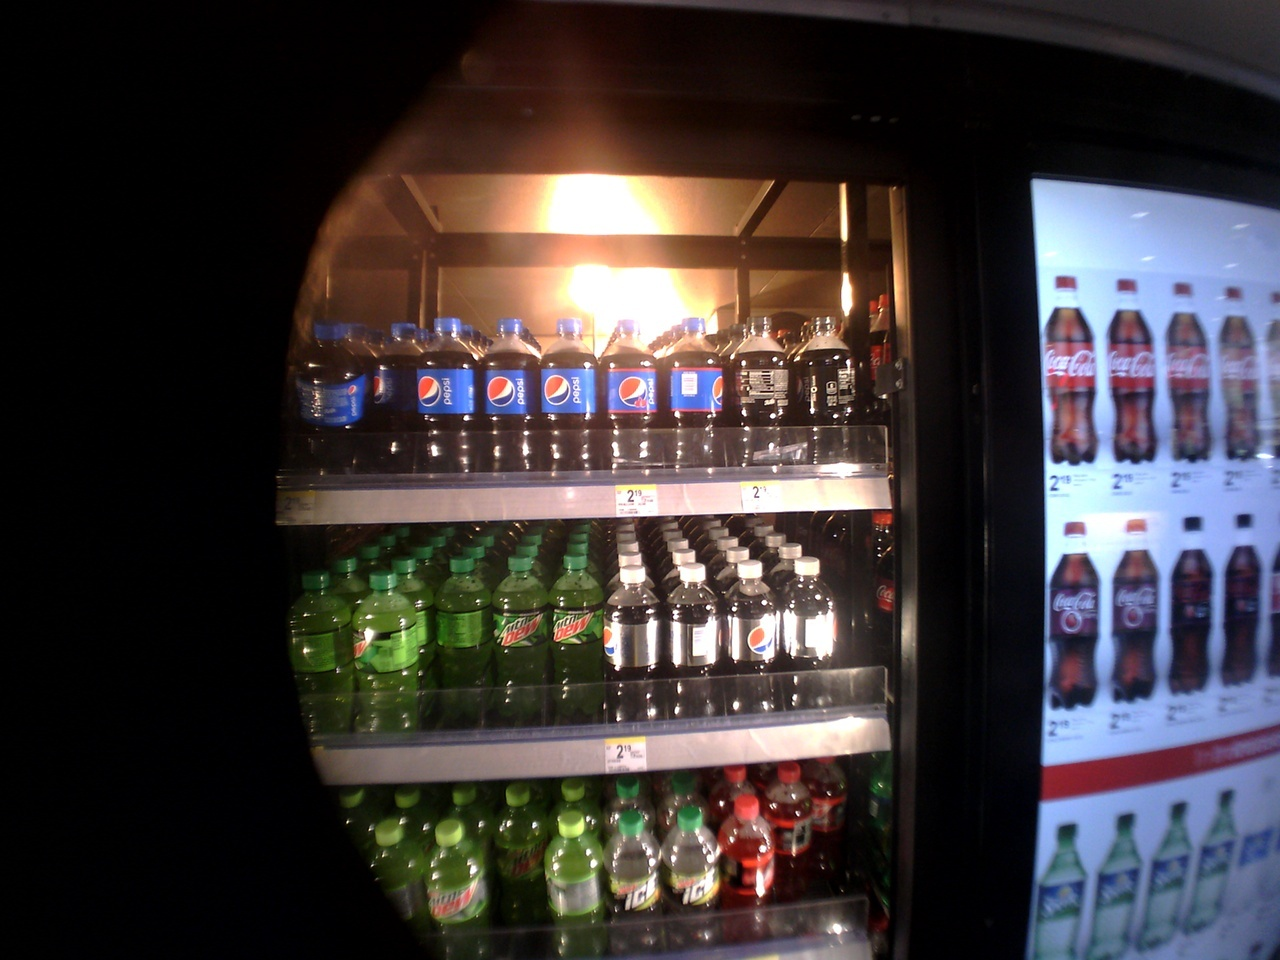shelf: (251, 517, 884, 788), (295, 297, 887, 522), (252, 767, 877, 948)
